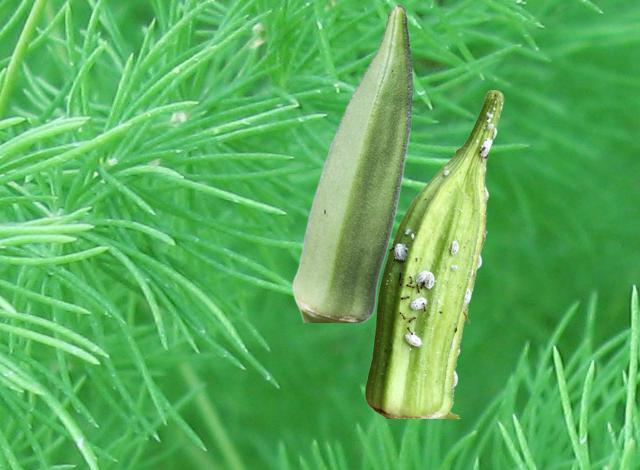okra: (365, 90, 503, 417), (292, 4, 412, 321)
